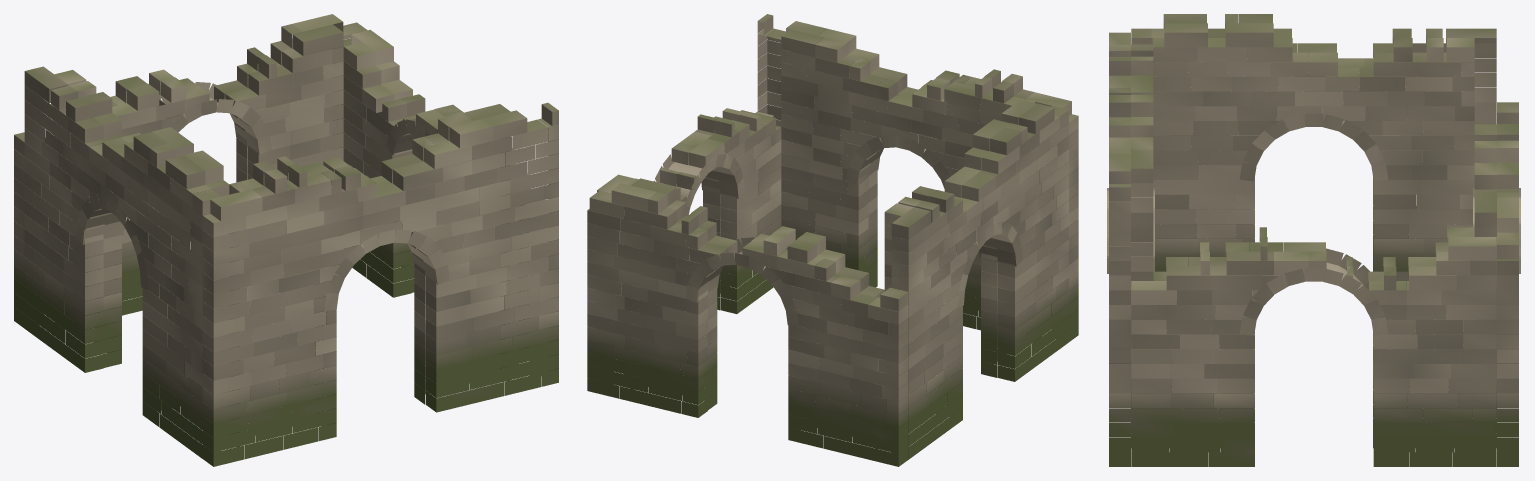
File: citadel_keep_mid.glb
3 renders of one model, left to right at view 1: azimuth 30°, elevation 25°; view 2: azimuth 150°, elevation 25°; view 3: azimuth 270°, elevation 25°, orthographic. The views are drawn at different scales.
Parts seen in each view (by area): view 1: citadel_keep_mid; view 2: citadel_keep_mid; view 3: citadel_keep_mid.
Part boxes in pixels (x1,y1,x2,y2): citadel_keep_mid: [14, 14, 558, 466]; citadel_keep_mid: [587, 14, 1078, 466]; citadel_keep_mid: [1107, 14, 1520, 466].
Bounding box in the file's own units: 56 × 41.77 × 56.
